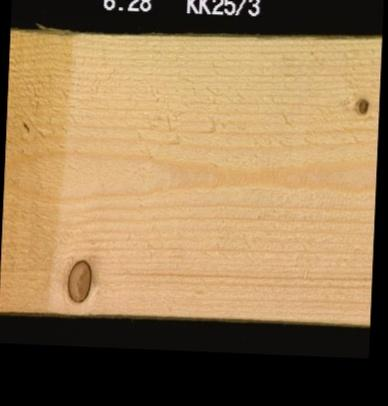dry_knot: (64, 257, 92, 303)
small_knot: (354, 95, 369, 115)
